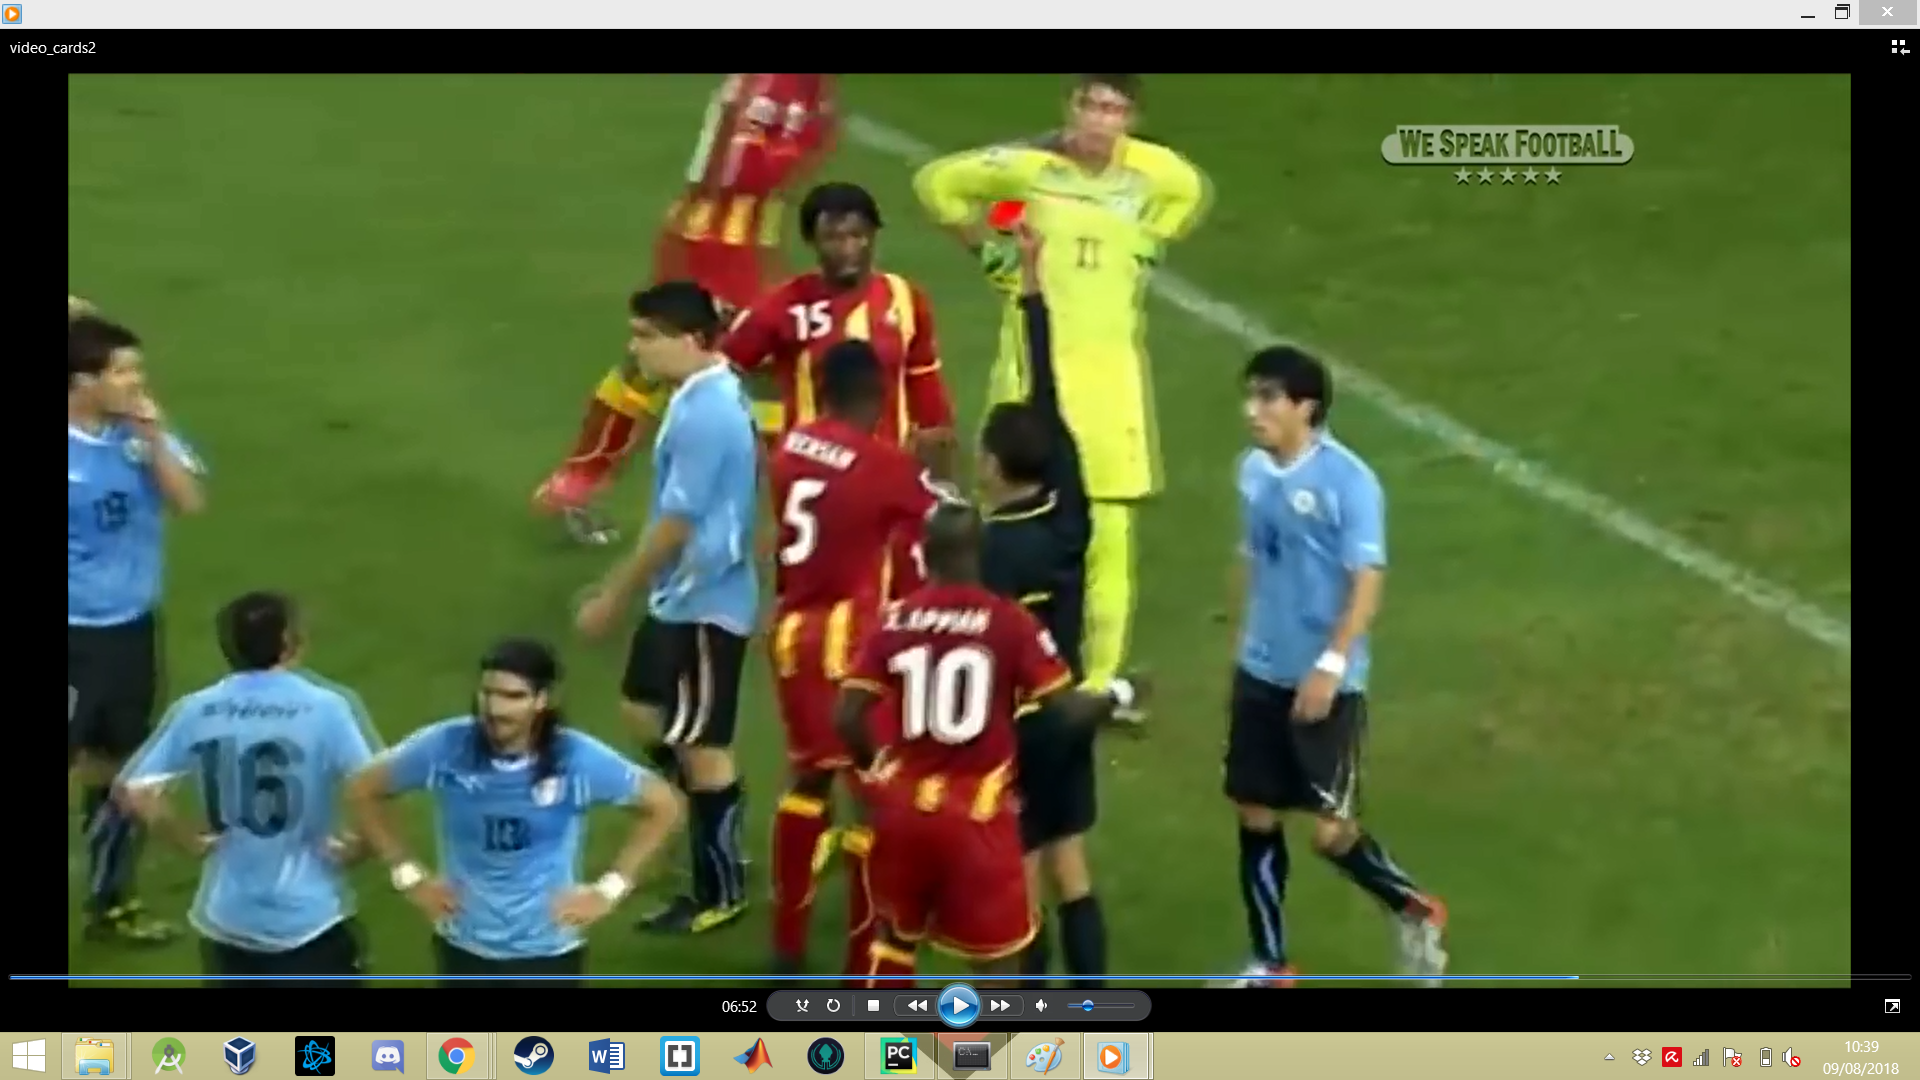red_card: (978, 183, 1050, 273)
